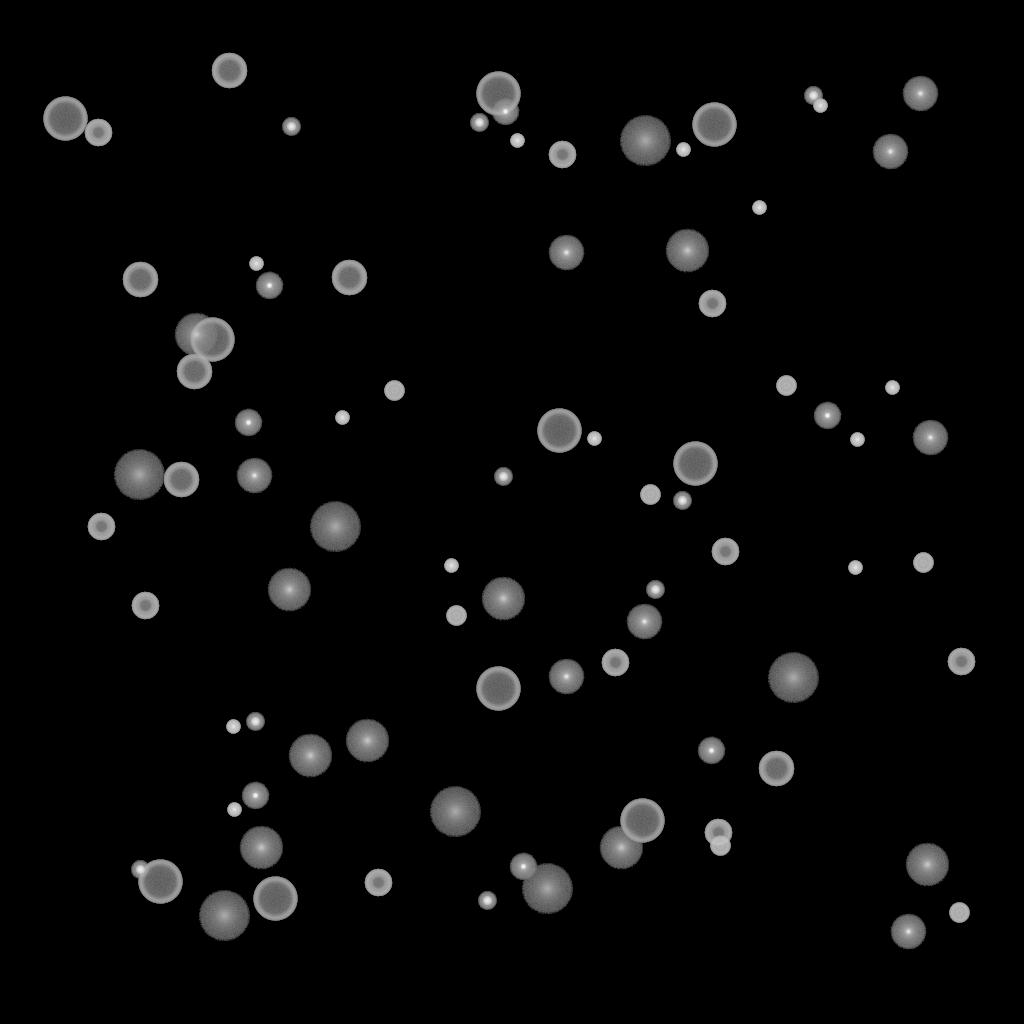depth:-10: (255, 272, 283, 300), (241, 782, 269, 810), (813, 402, 841, 430), (697, 737, 725, 765), (509, 853, 537, 881), (491, 98, 519, 126), (234, 409, 262, 437)
depth:-20: (282, 118, 300, 136), (470, 114, 488, 132), (246, 713, 264, 731), (673, 492, 691, 510), (494, 468, 512, 486), (646, 581, 664, 599), (131, 861, 149, 879), (478, 892, 496, 910), (804, 87, 822, 105)
depth:-30: (227, 803, 241, 817), (335, 411, 349, 425), (226, 720, 240, 734), (510, 134, 524, 148), (813, 99, 827, 113), (885, 381, 899, 395), (587, 432, 601, 446), (249, 257, 263, 271), (444, 559, 458, 573), (850, 433, 864, 447), (848, 561, 862, 575), (752, 201, 766, 215), (676, 143, 690, 157)
depth:-40: (640, 485, 660, 505), (949, 903, 969, 923), (913, 553, 933, 573), (384, 381, 404, 401), (710, 836, 730, 856), (446, 606, 466, 626), (776, 376, 796, 396)
depth:-50: (698, 290, 726, 318), (947, 648, 975, 676), (87, 513, 115, 541), (84, 119, 112, 147), (711, 538, 739, 566), (364, 869, 392, 897), (704, 819, 732, 847), (548, 141, 576, 169), (131, 592, 159, 620), (601, 649, 629, 677)
depth:-60: (122, 262, 158, 298), (163, 462, 199, 498), (176, 354, 212, 390), (758, 751, 794, 787), (331, 260, 367, 296), (211, 53, 247, 89)
depth:-70: (43, 97, 87, 141), (253, 877, 297, 921), (620, 799, 664, 843), (476, 667, 520, 711), (537, 409, 581, 453), (190, 318, 234, 362), (673, 442, 717, 486), (692, 103, 736, 147), (138, 860, 182, 904), (476, 72, 520, 116)
depth:0: (912, 420, 948, 456), (872, 134, 908, 170), (236, 458, 272, 494), (548, 235, 584, 271), (626, 604, 662, 640), (902, 76, 938, 112), (890, 914, 926, 950), (548, 659, 584, 695)
depth:10: (481, 577, 525, 621), (239, 826, 283, 870), (267, 568, 311, 612), (599, 826, 643, 870), (345, 719, 389, 763), (665, 229, 709, 273), (174, 313, 218, 357), (288, 734, 332, 778), (905, 843, 949, 887)
depth:20: (619, 116, 671, 166), (767, 653, 819, 703), (113, 450, 165, 500), (198, 891, 250, 941), (429, 787, 481, 837), (309, 502, 361, 552), (521, 864, 573, 914)
